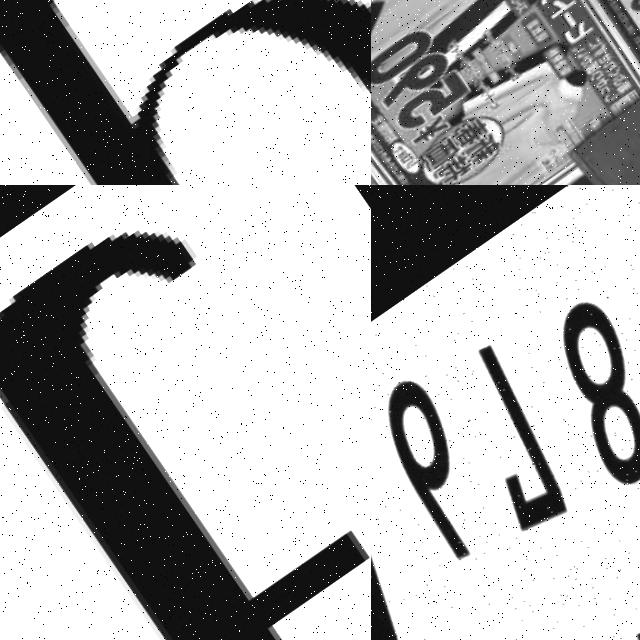6: (371, 339, 572, 640)
7: (402, 313, 640, 580)
8: (487, 267, 640, 535)
9: (576, 222, 640, 492)
T: (0, 187, 371, 640)
